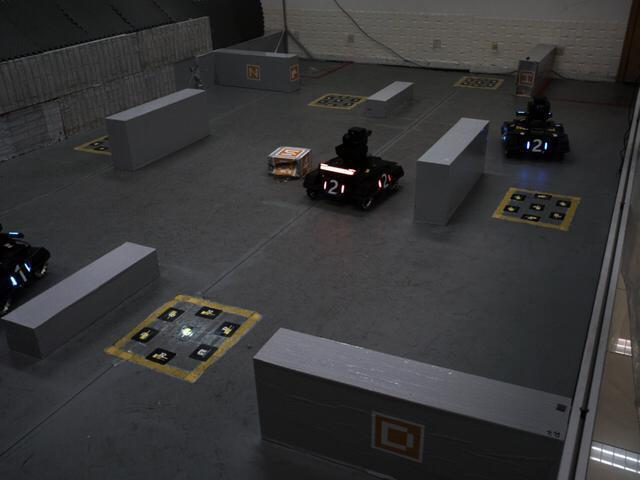armor: (5, 258, 34, 290), (319, 176, 347, 200), (522, 134, 551, 156), (374, 169, 394, 193)
